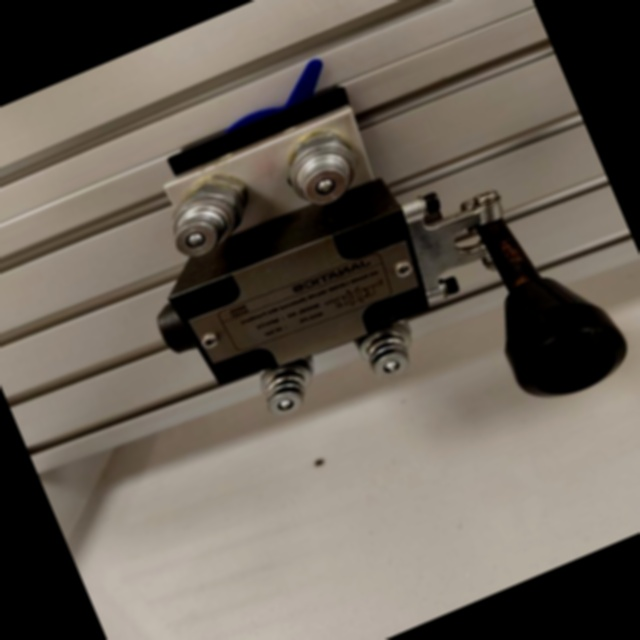4by3 hand lever valve: (77, 0, 640, 543)
